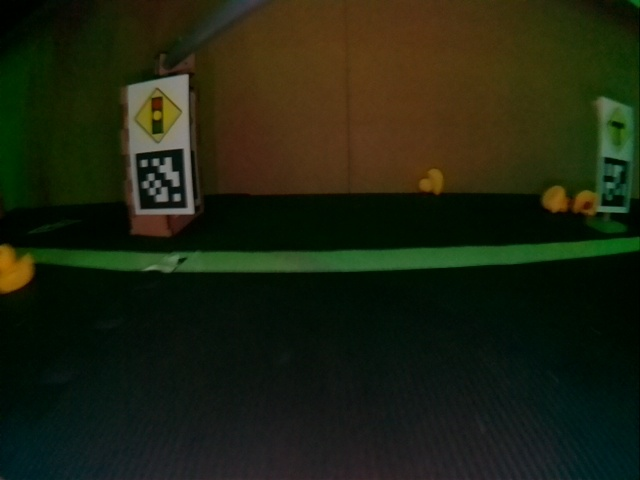Duckie: (3, 244, 31, 294), (542, 186, 566, 212), (420, 169, 443, 195), (577, 190, 597, 216)
Intersection sign: (598, 102, 632, 157)
QR code: (136, 149, 188, 212), (599, 159, 629, 209)
Signal sign: (128, 83, 191, 145)
